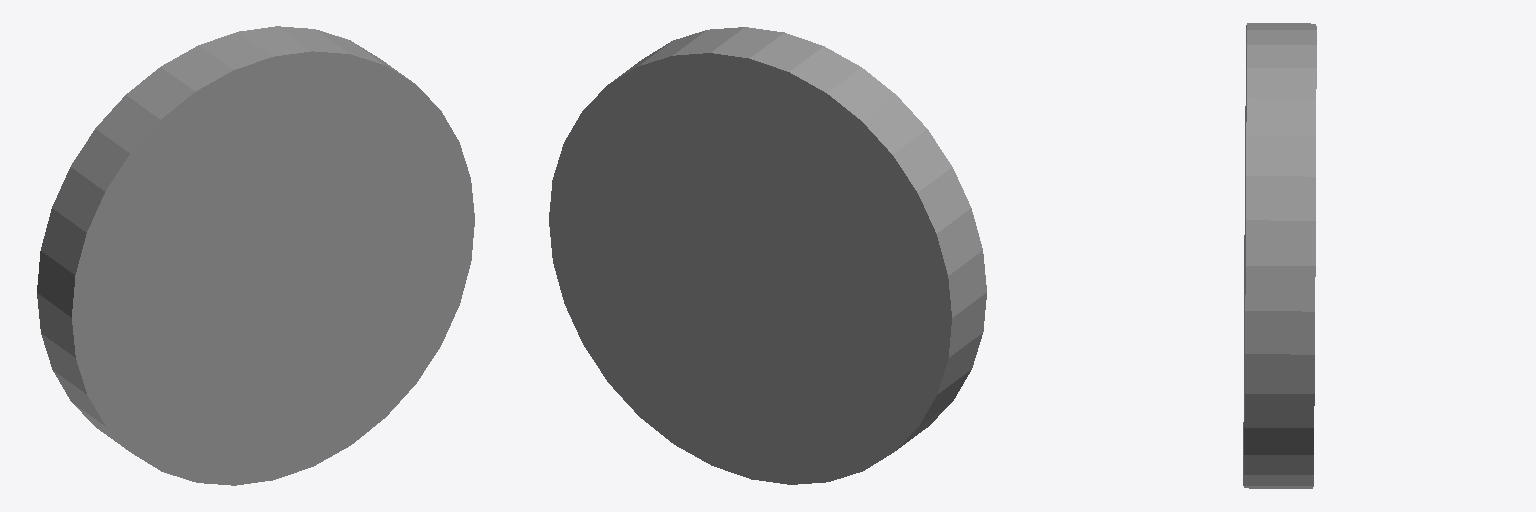
Rendered from coin.obj.
3 renders of one model, left to right at view 1: azimuth 30°, elevation 25°; view 2: azimuth 150°, elevation 25°; view 3: azimuth 270°, elevation 25°, orthographic.
Parts seen in each view (by area): view 1: Cylinder; view 2: Cylinder; view 3: Cylinder.
Part boxes in pixels (bbox=[...]): Cylinder: bbox=[37, 26, 474, 485]; Cylinder: bbox=[549, 27, 986, 484]; Cylinder: bbox=[1243, 23, 1316, 488].
Size of the model in its own units: 2 by 2 by 0.3143.